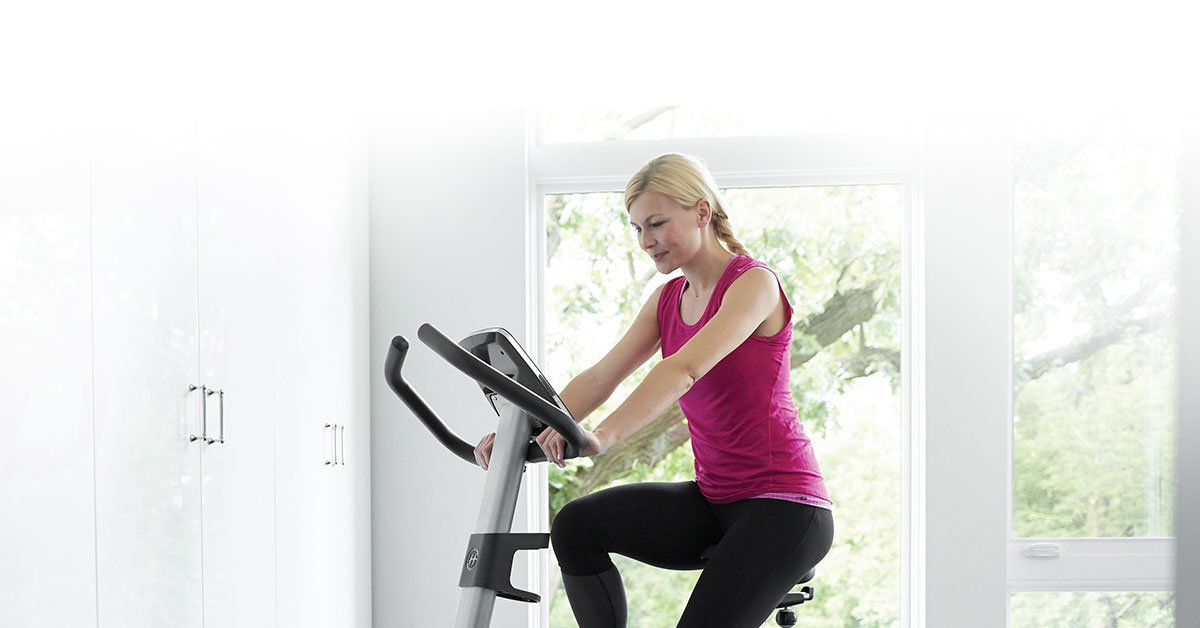gym_bike: (364, 313, 647, 628)
